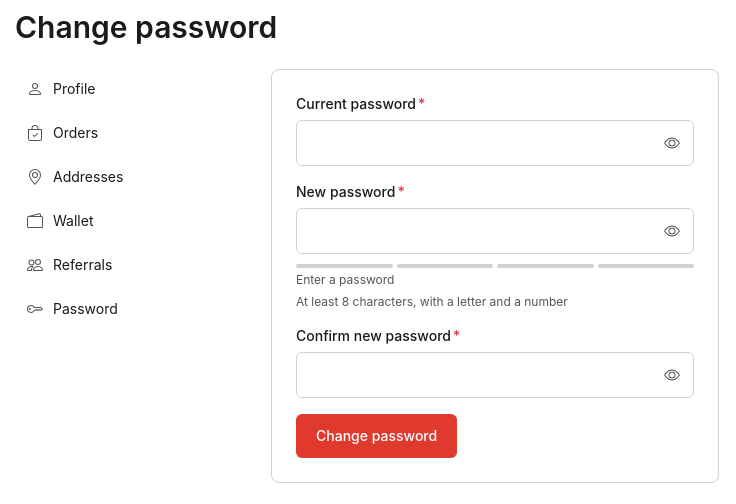
Test: ChangePasswordPage › enforces the new-password rules before sending
Type "oldpassword1" into the password field labelled "Current password" at (495, 143), box [296,120,694,166]
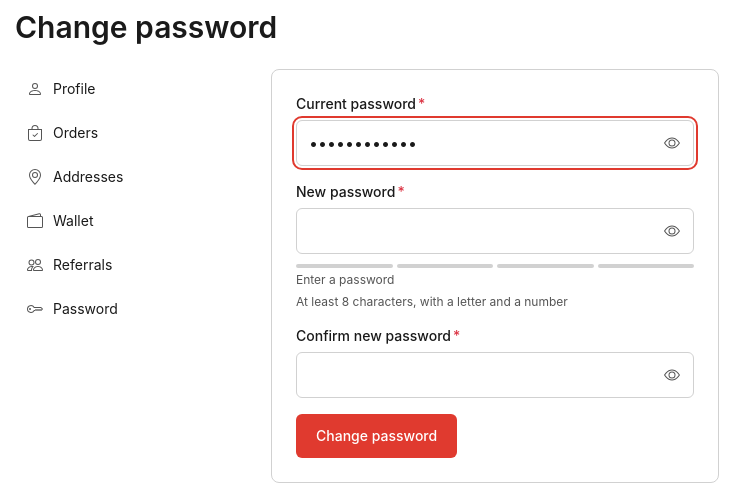
Type "short1" into the password field labelled "New password" at (495, 231), box [296,208,694,254]
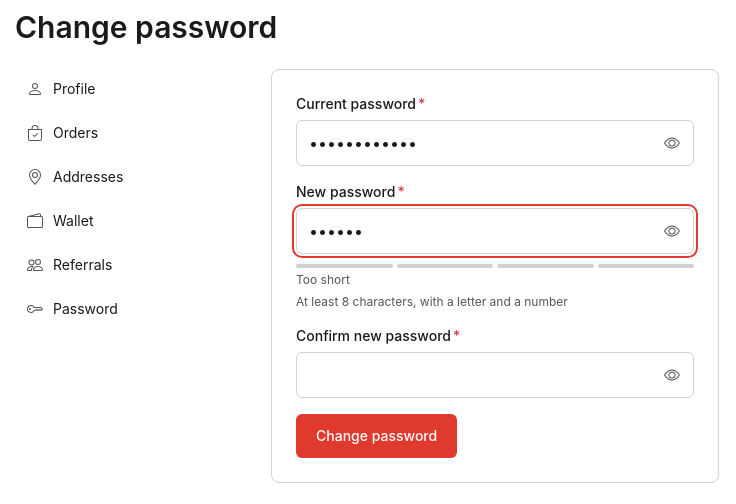
Type "short1" into the password field labelled "Confirm new password" at (495, 375), box [296,352,694,398]
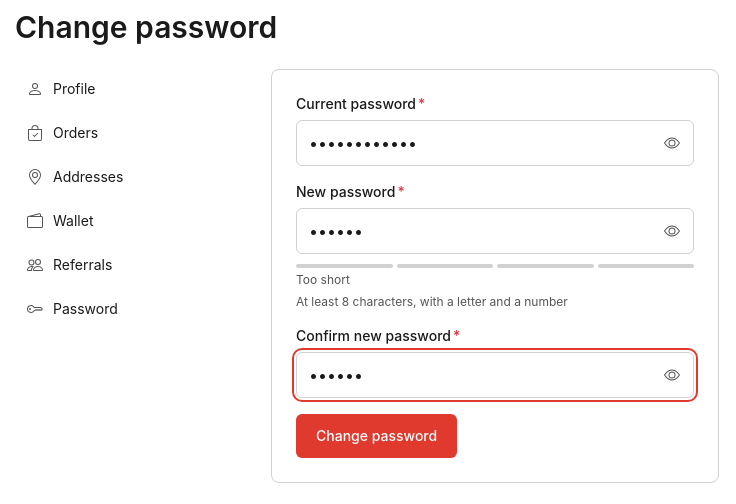
Click the button "Change password" at (377, 436), box [296,414,457,458]
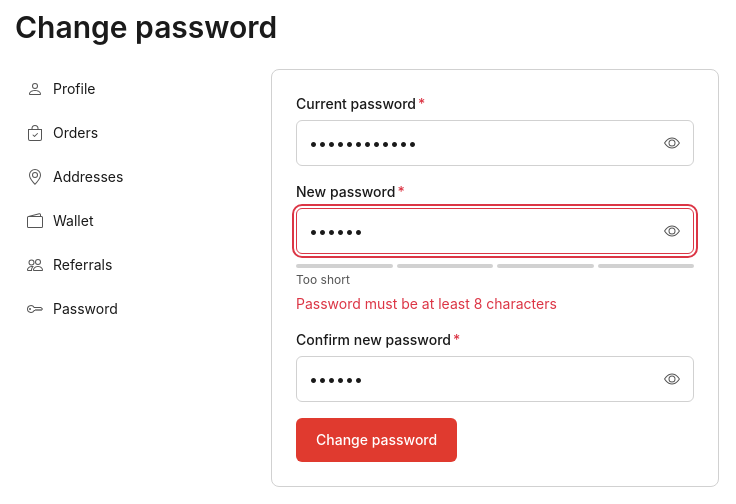
Expected: the text "Password must be at least 8 characters" is shown, [296,295,557,312]
